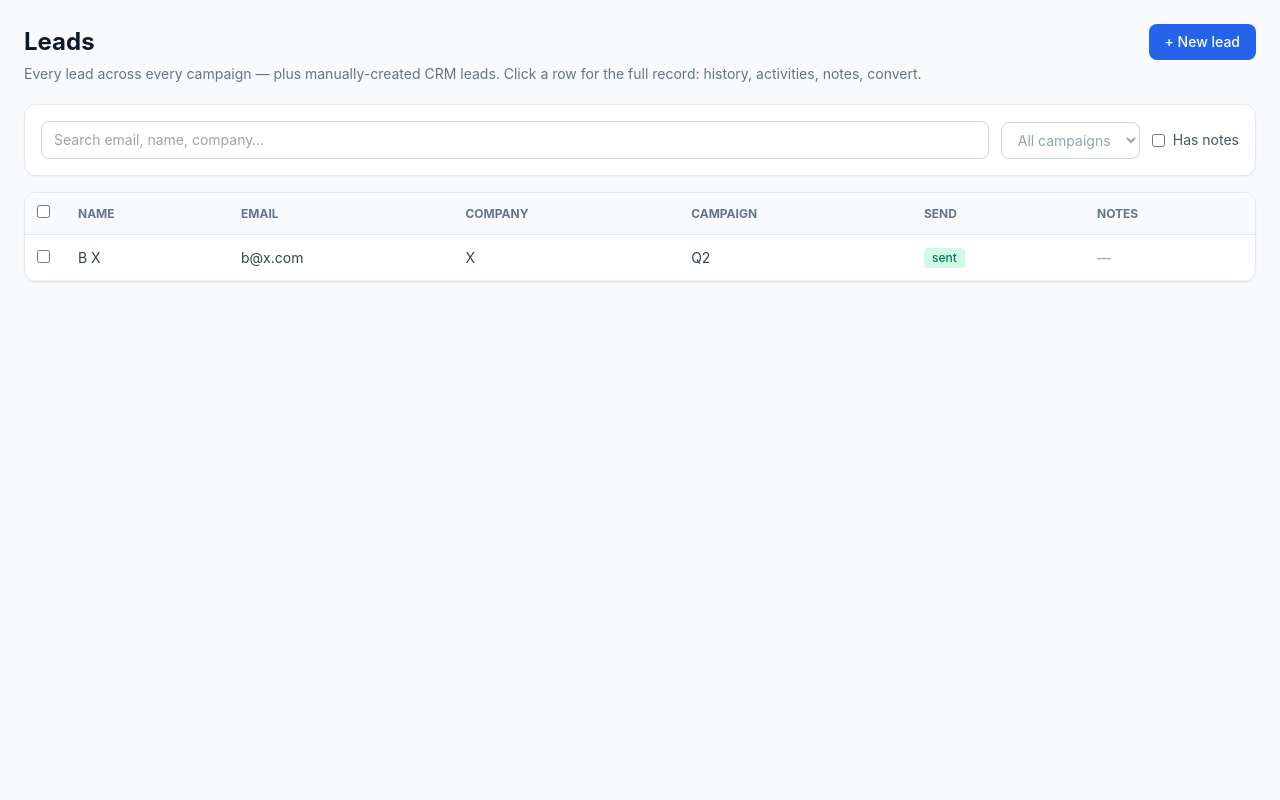
Test: Leads page › renders the activity history list with one row per event
What coordinates should you click on to do the following:
click the row with test id "lead-row-l3"
I would click on:
 (640, 258)
Its box is [25,234,1255,280].
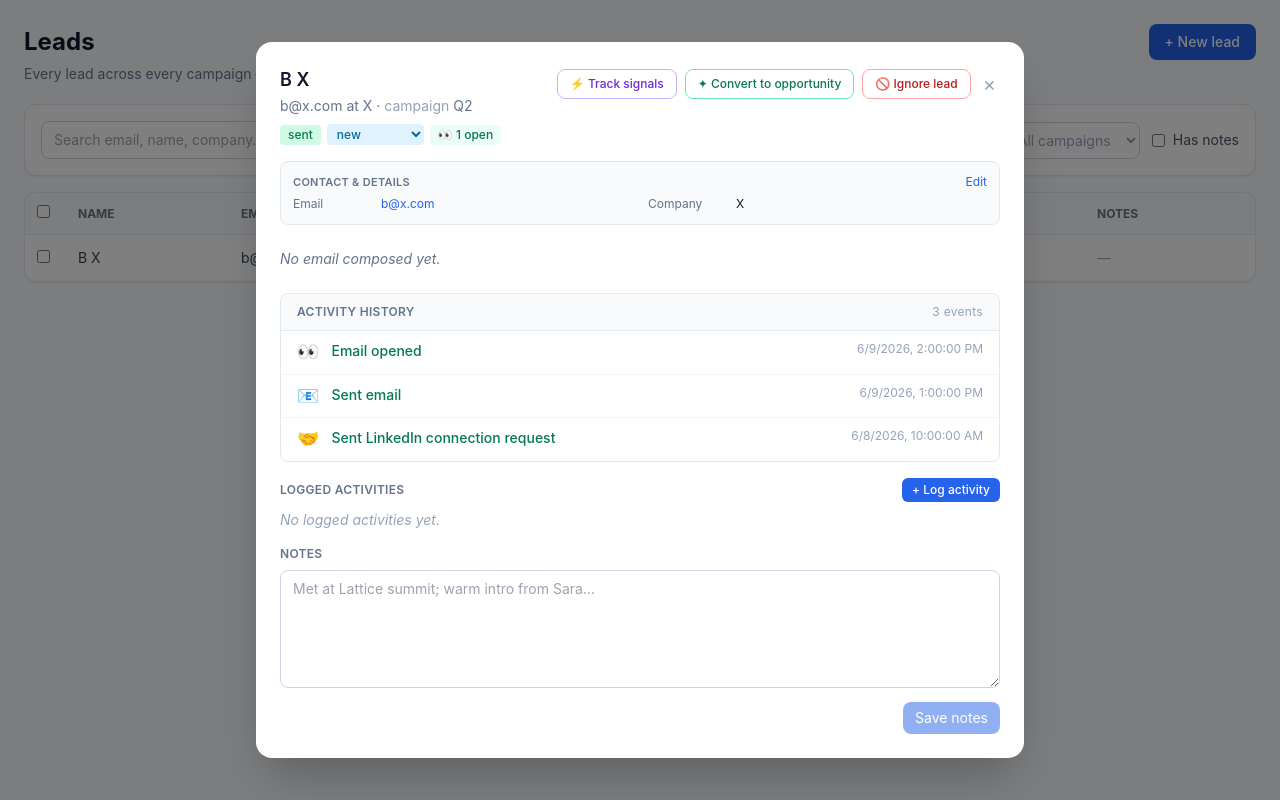
Check: the text "Email opened" is shown, box [332,342,422,359]
Check: the text "Sent email" is shown, box [332,386,401,403]
Check: the text "Sent LinkedIn connection request" is shown, box [332,429,556,446]
